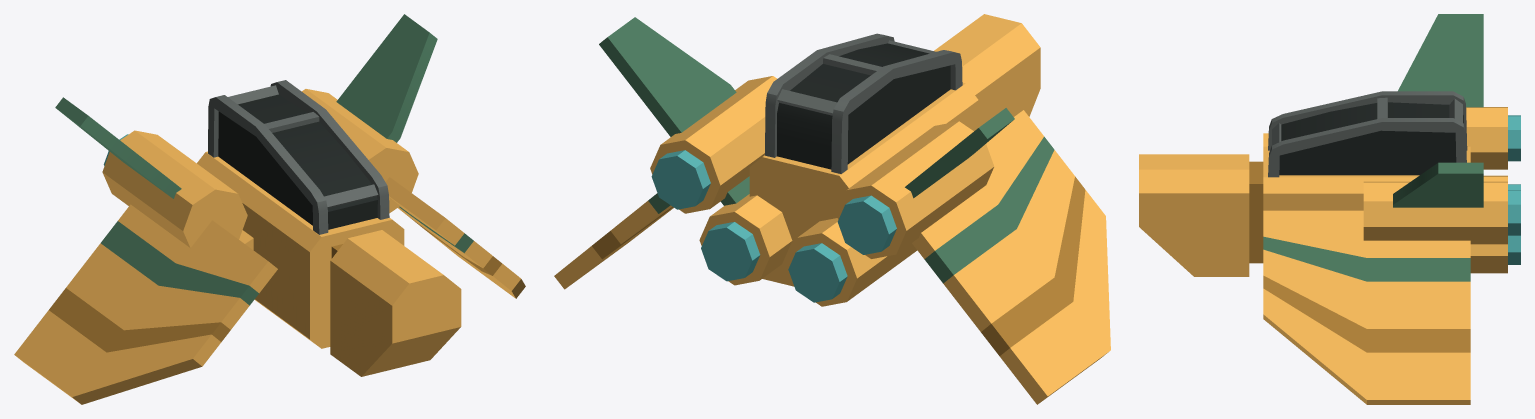
File: ship_Final_01.fbx
The picture shows the model from 3 angles, left to right: view 1: azimuth 30°, elevation 25°; view 2: azimuth 150°, elevation 25°; view 3: azimuth 270°, elevation 25°; orthographic projection. The views are drawn at different scales.
Parts seen in each view (by area): view 1: pCube12; view 2: pCube12; view 3: pCube12.
Part boxes in pixels (x1,y1,x2,y2): pCube12: (14, 14, 525, 404); pCube12: (554, 14, 1110, 404); pCube12: (1139, 14, 1520, 404).
Bounding box in the file's own units: 819 × 429 × 668.
1 material, 1 textured.
